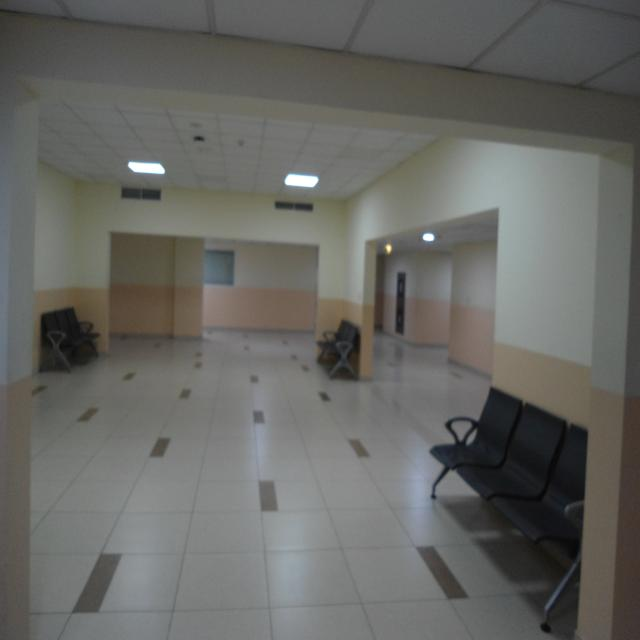bench: (424, 384, 600, 640), (29, 301, 108, 376), (311, 301, 363, 395)
wall: (40, 167, 110, 357), (202, 239, 319, 338), (110, 237, 202, 342), (317, 205, 364, 362), (448, 244, 495, 372), (389, 246, 451, 343)
